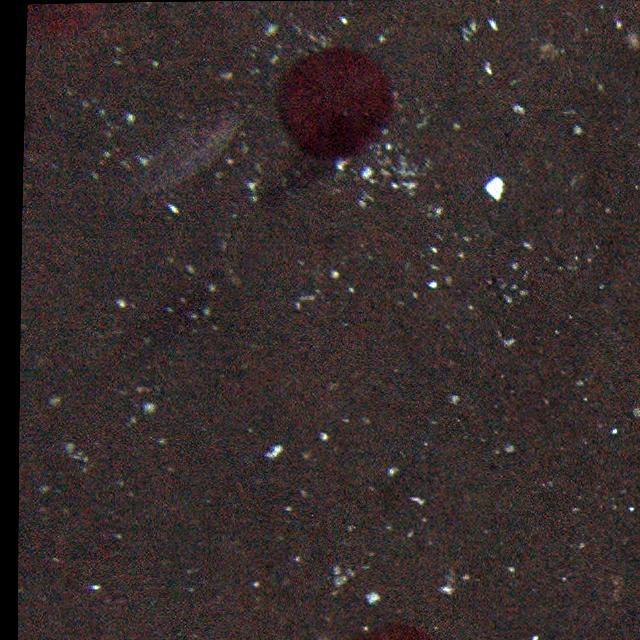flatfish: (119, 108, 242, 200)
